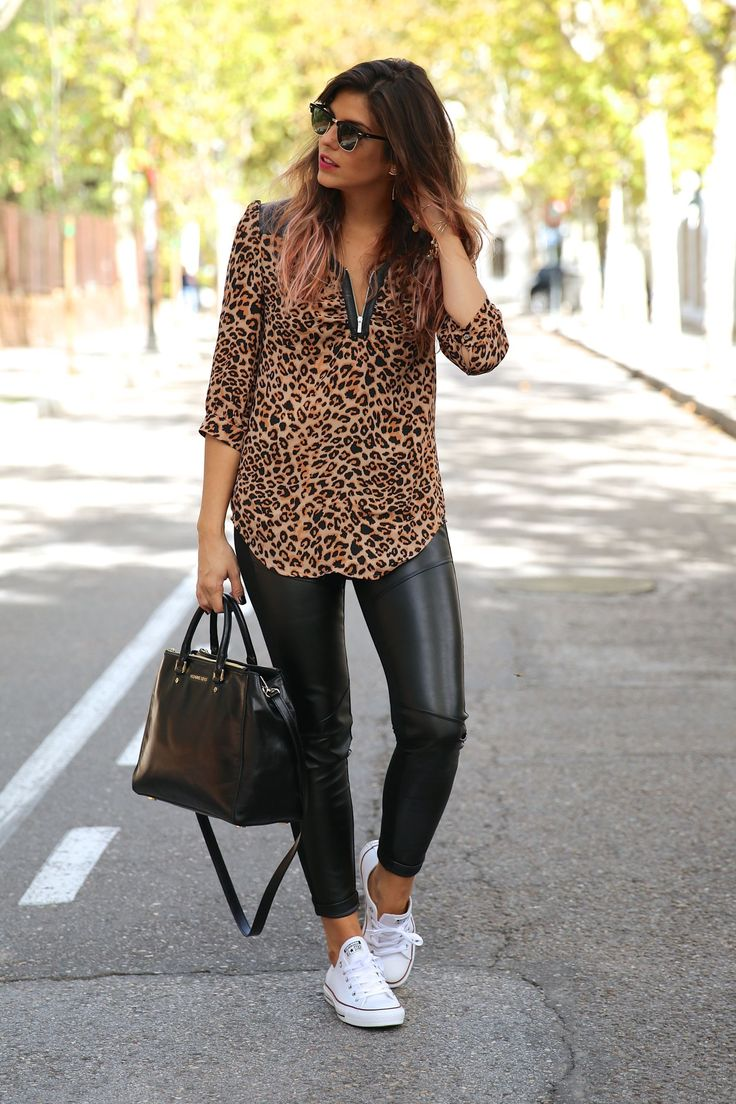cuero: (134, 519, 467, 938)
